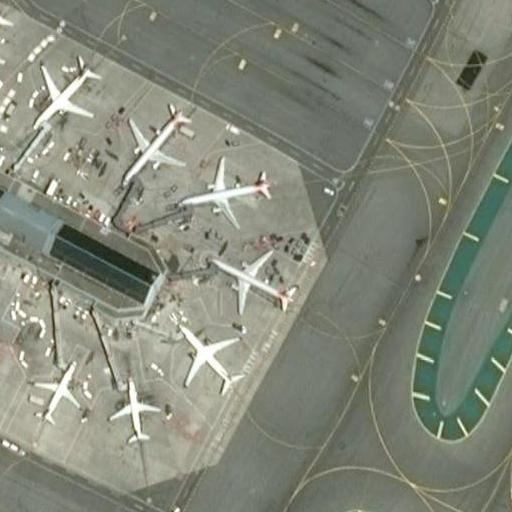Aircraft: (176, 154, 270, 231), (210, 246, 298, 317), (118, 101, 189, 186), (30, 52, 101, 128), (174, 323, 243, 398), (106, 377, 159, 444), (29, 359, 82, 424), (0, 1, 12, 78)
